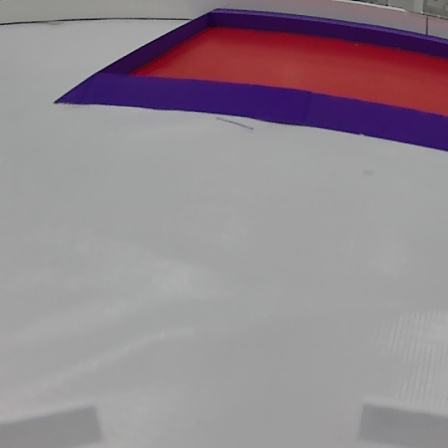red_aim: (58, 9, 445, 157)
